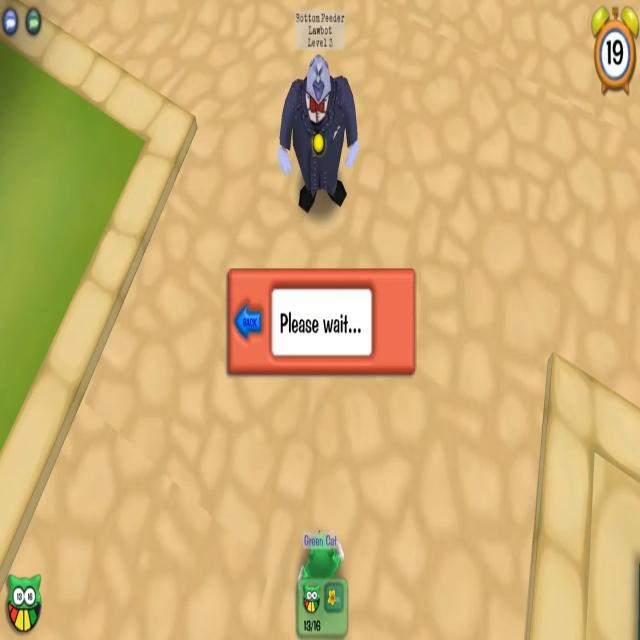bottomfeeder: (277, 7, 361, 213)
